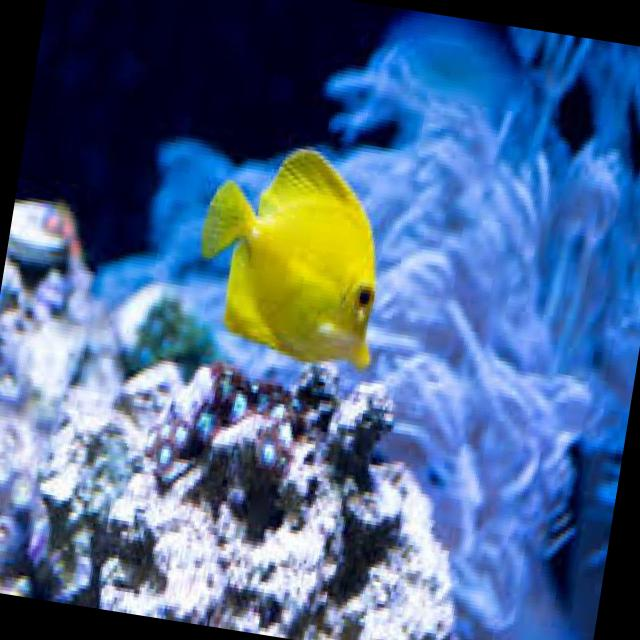TangFish: (183, 130, 405, 376)
